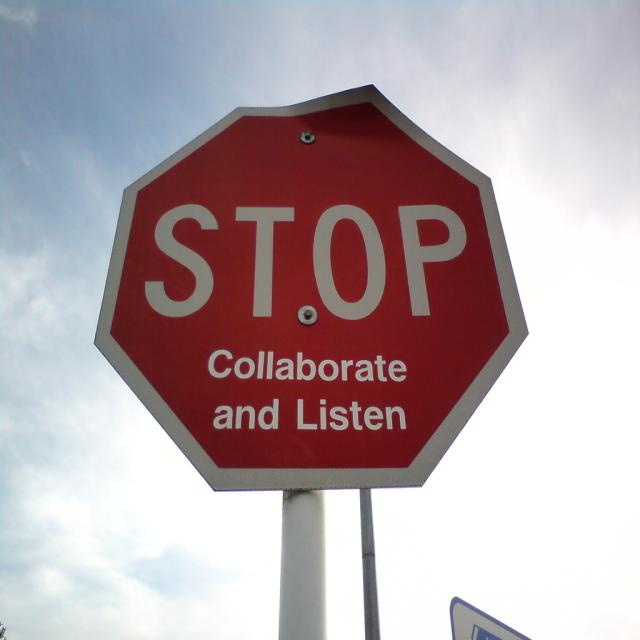Stop-sign: (92, 83, 529, 489)
